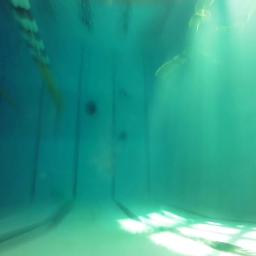Full: (84, 104, 96, 116), (117, 130, 127, 140)
